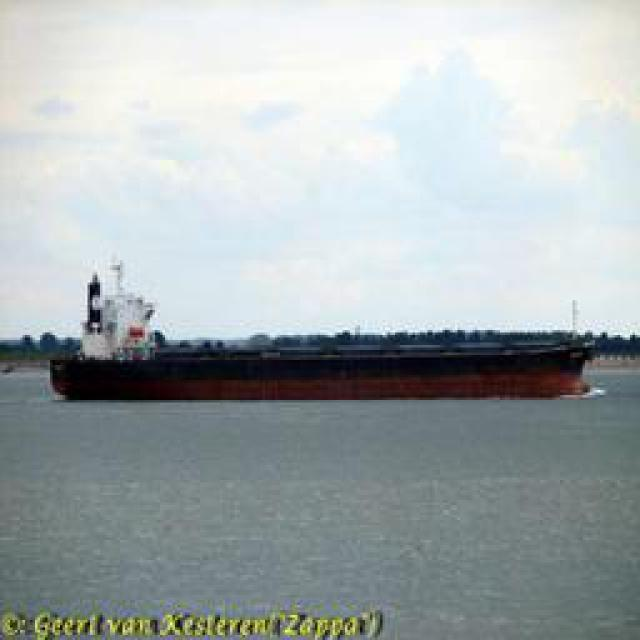Ship: (60, 332, 615, 402)
